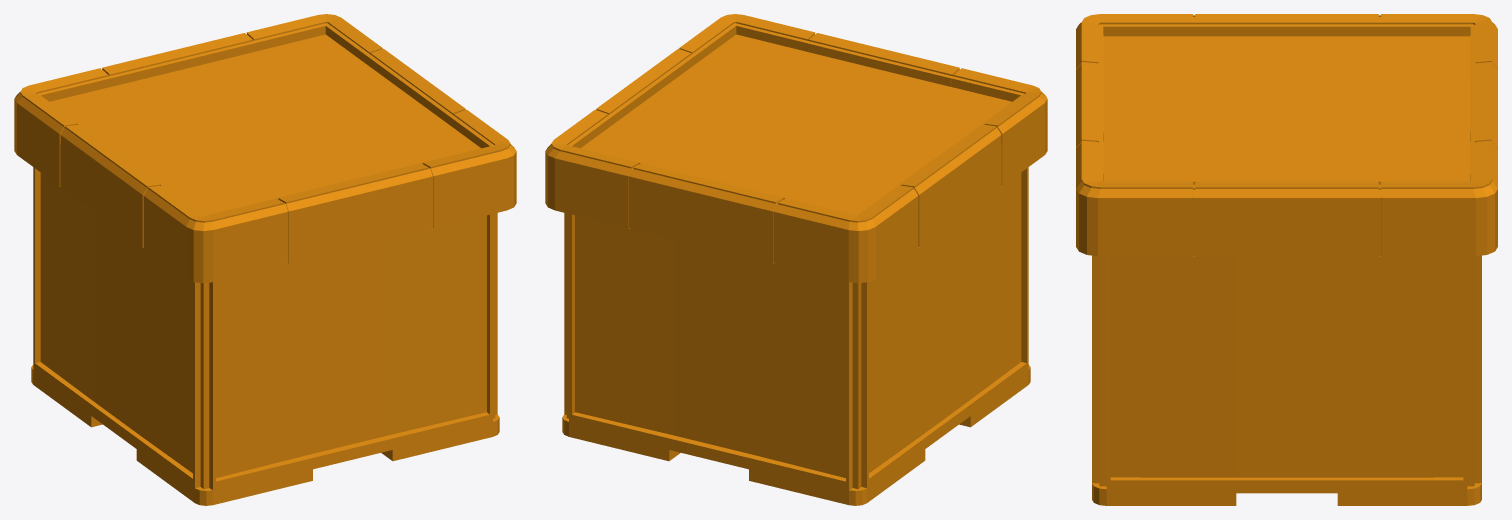
Rendered from YBox.obj.
3 renders of one model, left to right at view 1: azimuth 30°, elevation 25°; view 2: azimuth 150°, elevation 25°; view 3: azimuth 270°, elevation 25°, orthographic. The views are drawn at different scales.
Parts seen in each view (by area): view 1: YBoxBase, YBoxHeat; view 2: YBoxBase, YBoxHeat; view 3: YBoxHeat, YBoxBase.
Boxes of the visible parts, box(x1,y1,x2,y2) form: YBoxBase: box(31, 167, 499, 505); YBoxHeat: box(14, 14, 516, 283); YBoxBase: box(562, 167, 1030, 505); YBoxHeat: box(545, 14, 1047, 283); YBoxHeat: box(1076, 14, 1497, 256); YBoxBase: box(1092, 255, 1481, 505).
Size of the model in its own units: 0.3192 by 0.2695 by 0.3192.
